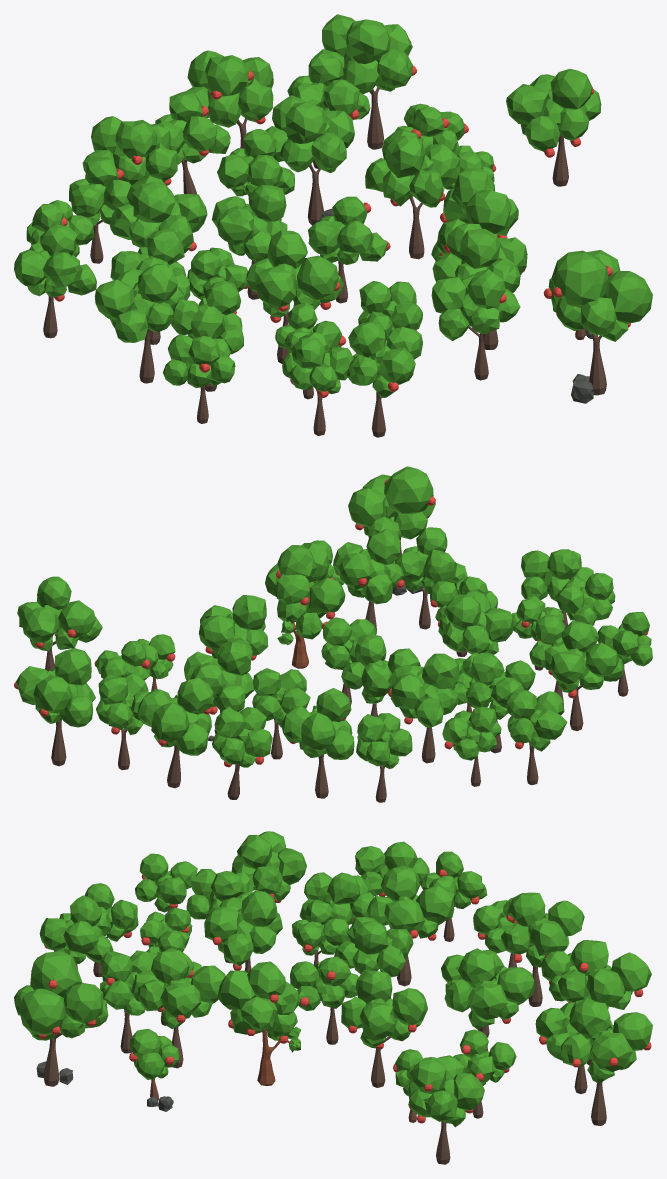
The model's file is ambienteCiervo.fbx.
3 views of the same model, one above another, from view 1: azimuth 30°, elevation 25°; view 2: azimuth 150°, elevation 25°; view 3: azimuth 270°, elevation 25° (orthographic). The views are drawn at different scales.
Parts seen in each view (by area): view 1: hojas1, hojas3, hojas3.022, hojas3.007, hojas3.002, hojas3.024, hojas3.005, hojas3.019, hojas3.016, hojas3.010, hojas3.017, hojas3.011 (+23 smaller); view 2: hojas2, hojas1, hojas3.022, hojas3.024, hojas3, hojas3.016, hojas3.019, hojas3.017, hojas3.001, hojas3.007, hojas3.005, hojas3.002 (+19 smaller); view 3: hojas1, hojas3.022, hojas2, hojas3.005, hojas3.002, hojas3.001, hojas3.024, hojas3.007, hojas3.016, hojas3.017, hojas3, hojas3.019 (+23 smaller).
Boxes of the visible parts, x1,y1,x2,y2 form: hojas1: (551,250,652,341); hojas3: (506,69,601,151); hojas3.022: (313,14,412,93); hojas3.007: (246,230,343,317); hojas3.002: (365,129,459,207); hojas3.024: (186,50,273,127); hojas3.005: (265,95,354,172); hojas3.019: (94,263,184,342); hojas3.016: (110,175,207,253); hojas3.010: (431,269,520,340); hojas3.017: (82,116,177,185); hojas3.011: (346,321,422,397); hojas2: (265,543,345,644); hojas1: (348,466,435,539); hojas3.022: (16,648,95,727); hojas3.024: (137,677,213,755); hojas3: (17,576,102,651); hojas3.016: (387,653,459,727); hojas3.019: (544,621,623,692); hojas3.017: (281,688,354,759); hojas3.001: (333,528,404,604); hojas3.007: (438,590,513,654); hojas3.005: (184,640,254,712); hojas3.002: (199,595,268,659); hojas1: (14,951,108,1040); hojas3.022: (560,998,652,1083); hojas2: (217,961,300,1052); hojas3.005: (444,948,534,1029); hojas3.002: (341,970,427,1048); hojas3.001: (137,948,225,1028); hojas3.024: (558,940,651,1009); hojas3.007: (204,890,282,965); hojas3.016: (366,865,454,938); hojas3.017: (501,892,584,967); hojas3: (408,1055,484,1127); hojas3.019: (231,831,306,901).
Size of the model in its own units: 54.94 by 12.51 by 56.34.
